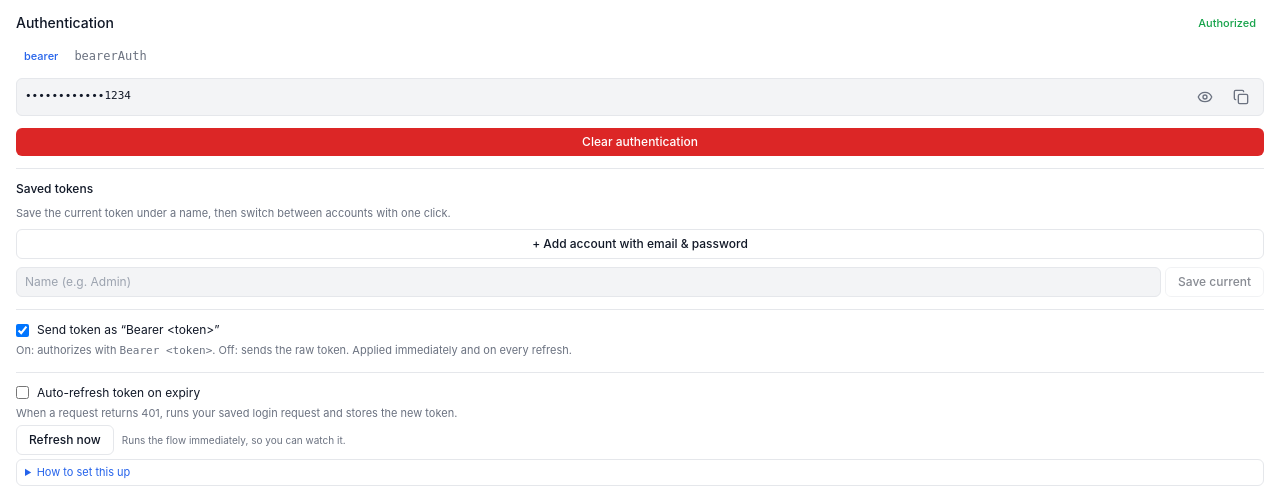
Test: AuthPanel › reveals the full credential on toggle
Expected: the text "Authorized" is shown, [1198,16,1256,30]
What coordinates should you click on to do the following:
click the button named "Show credential"
I would click on:
 (1205, 96)
Its box is [1191,82,1219,110].
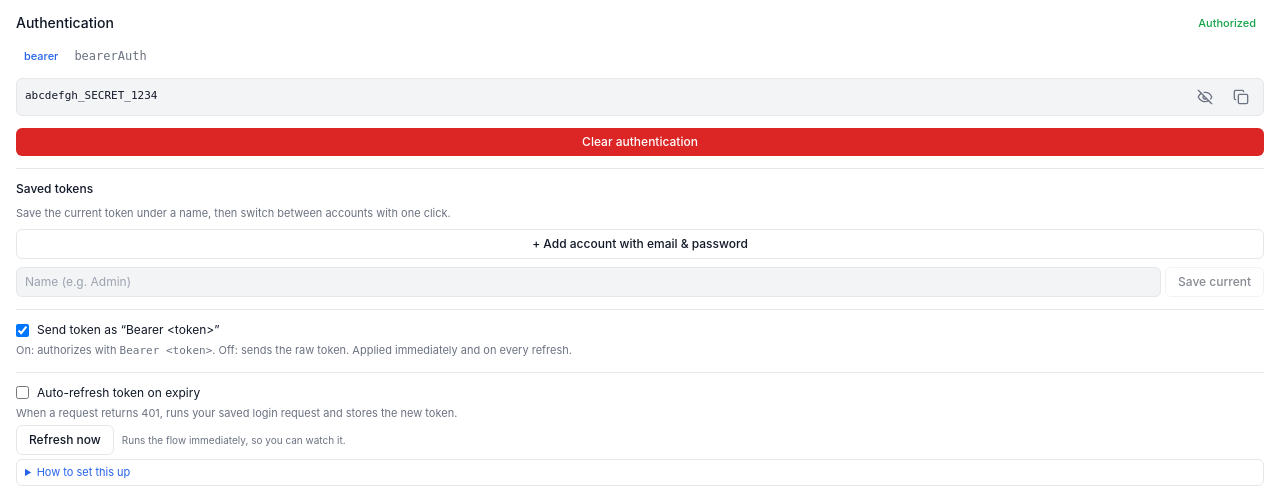
Expected: the text named "Stored credential" reads "abcdefgh_SECRET_1234", [25,89,158,102]
